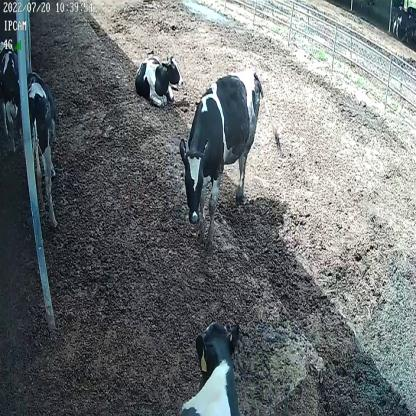cow: (180, 68, 282, 244), (17, 71, 59, 231), (176, 320, 242, 416), (134, 46, 185, 110)
